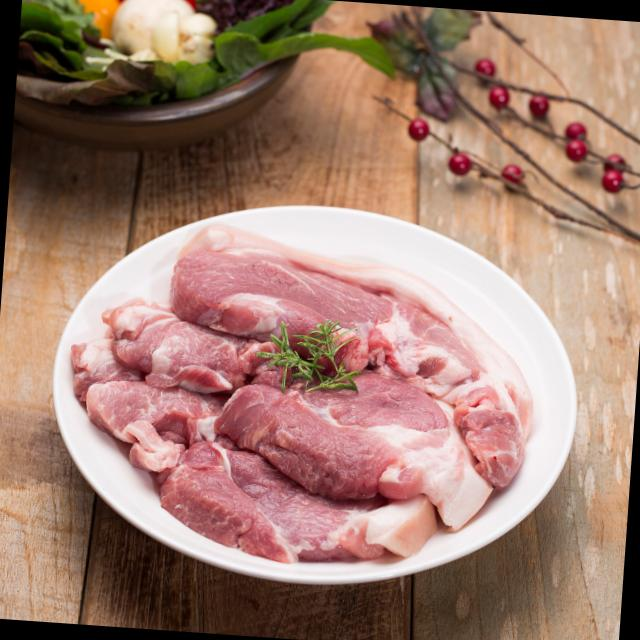pork: (55, 213, 545, 578), (158, 438, 496, 572), (167, 222, 290, 338)
